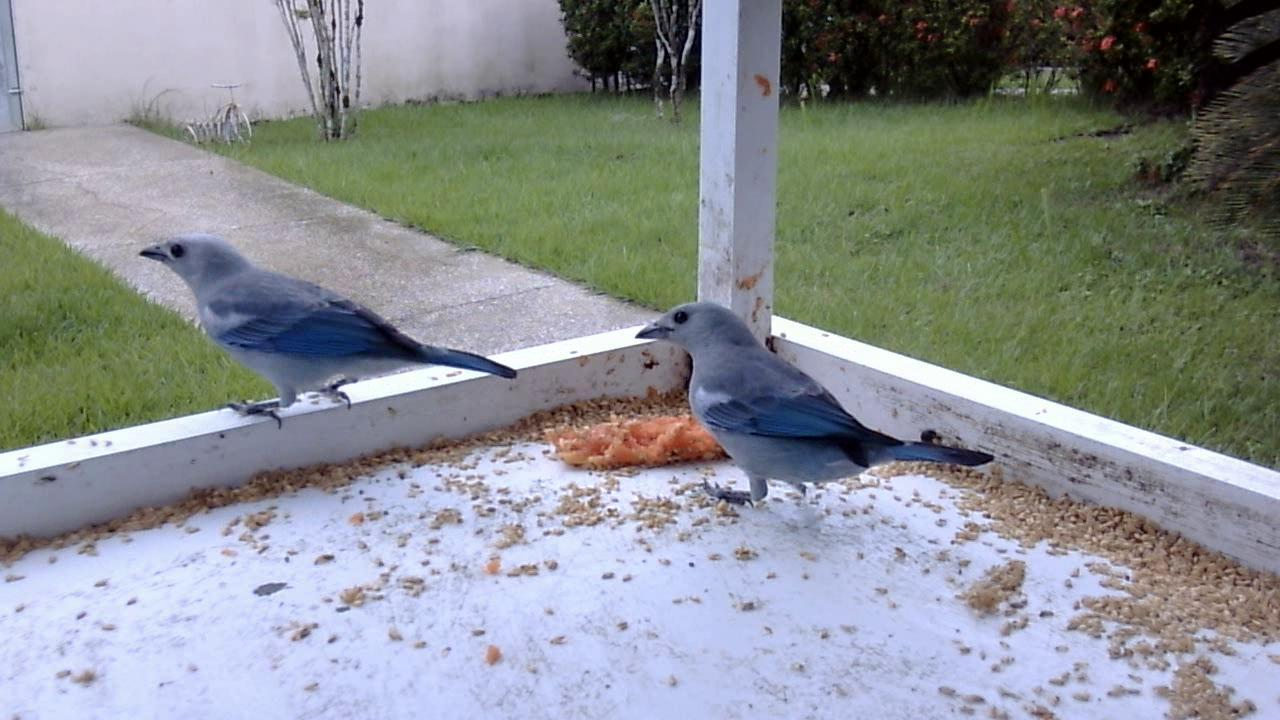sanhaco_da_amazonia: (122, 225, 520, 434), (628, 297, 994, 521)
